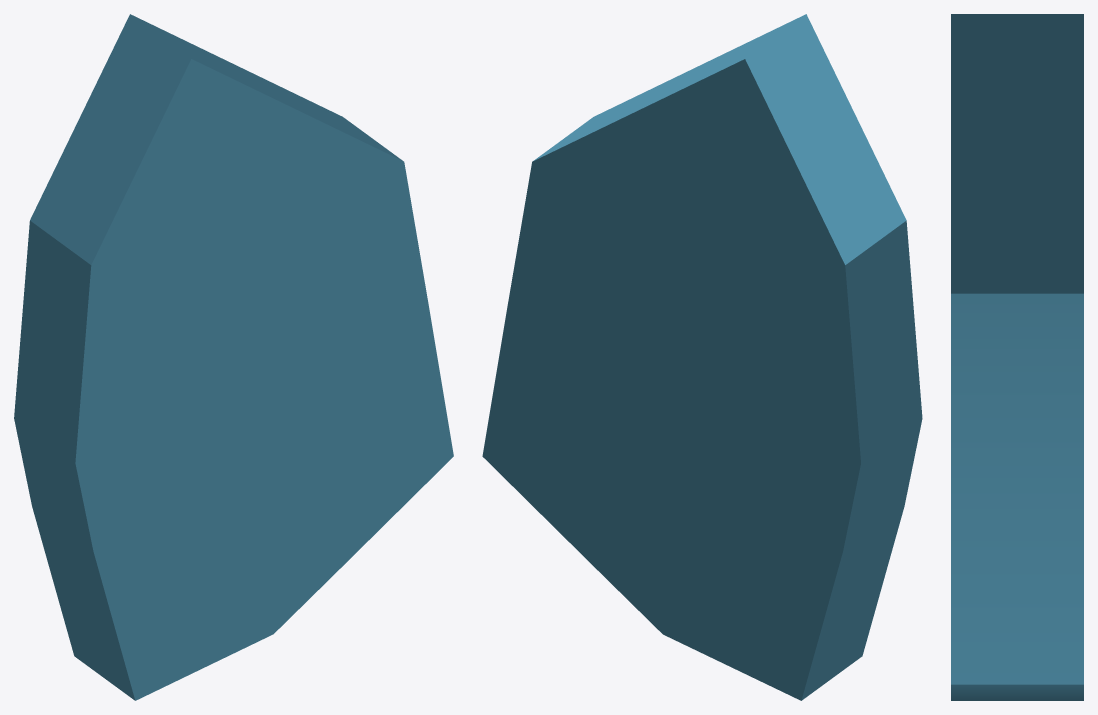
File: NexusA_Trigger_25.fbx
3 views of the same model, side by side, from view 1: azimuth 30°, elevation 25°; view 2: azimuth 150°, elevation 25°; view 3: azimuth 270°, elevation 25° (orthographic). The views are drawn at different scales.
Parts seen in each view (by area): view 1: pCube28; view 2: pCube28; view 3: pCube28.
Part boxes in pixels (x1=…): pCube28: x1=14, y1=14, x2=453, y2=700; pCube28: x1=482, y1=14, x2=922, y2=700; pCube28: x1=951, y1=14, x2=1083, y2=700.
Size of the model in its own units: 33.99 by 53.91 by 9.54.
